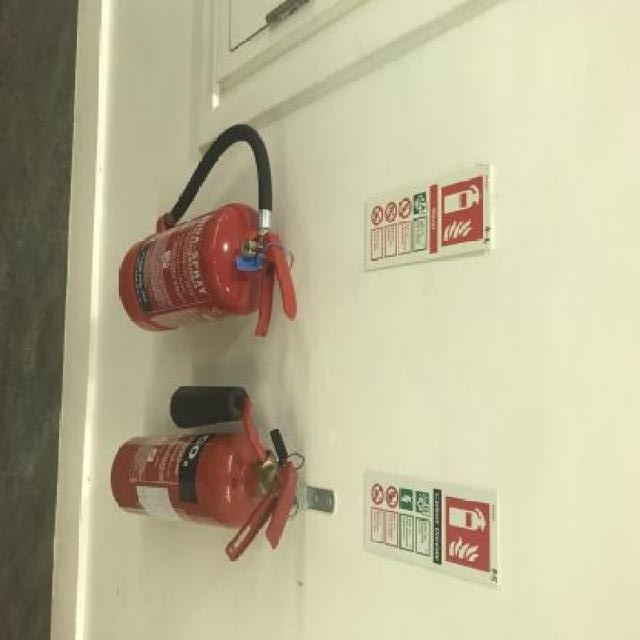fire extinguisher: (119, 125, 296, 339), (111, 386, 300, 568)
